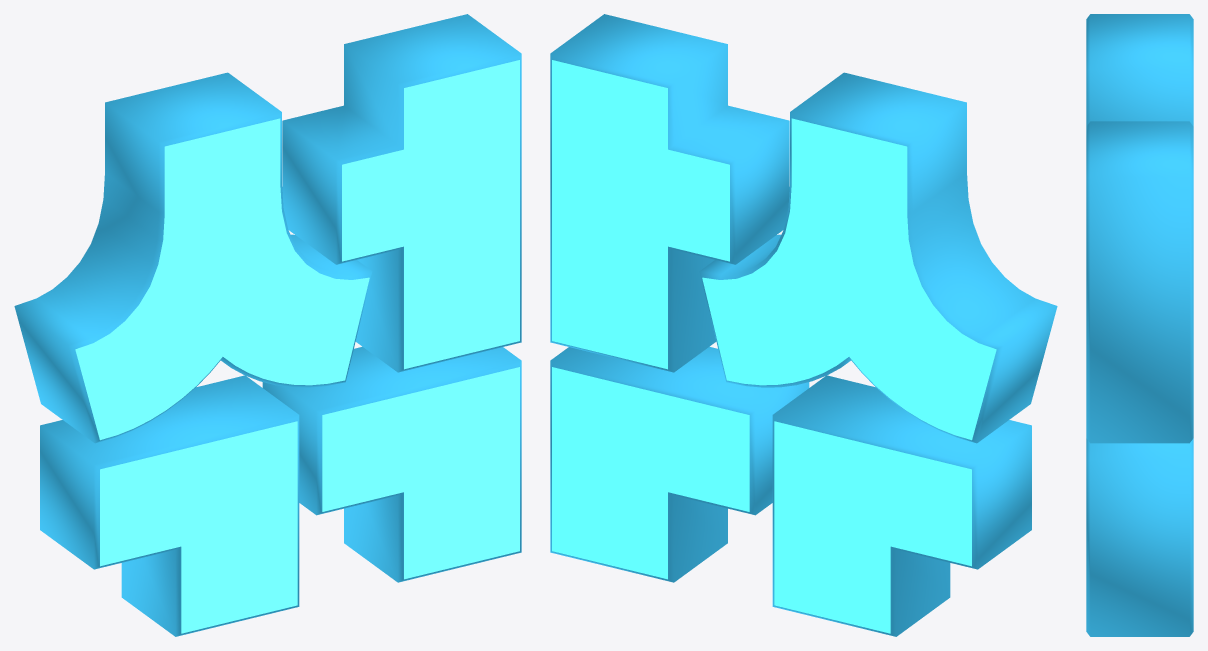
3 views of the same model, side by side, from view 1: azimuth 30°, elevation 25°; view 2: azimuth 150°, elevation 25°; view 3: azimuth 270°, elevation 25° (orthographic). The views are drawn at different scales.
Parts seen in each view (by area): view 1: glyph; view 2: glyph; view 3: glyph.
Part boxes in pixels (x1,y1,x2,y2): glyph: (14,14,521,636); glyph: (550,14,1057,636); glyph: (1086,14,1193,636).
Size of the model in its own units: 0.0728 by 0.0766 by 0.0162.
